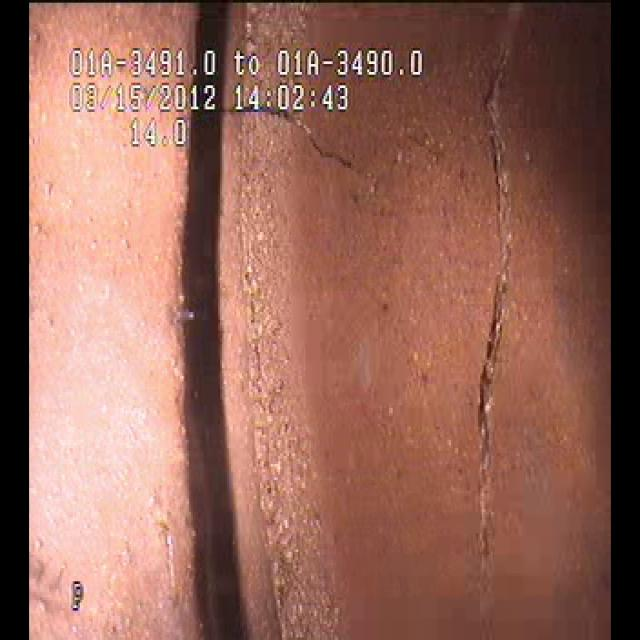Crack: (445, 49, 546, 590)
